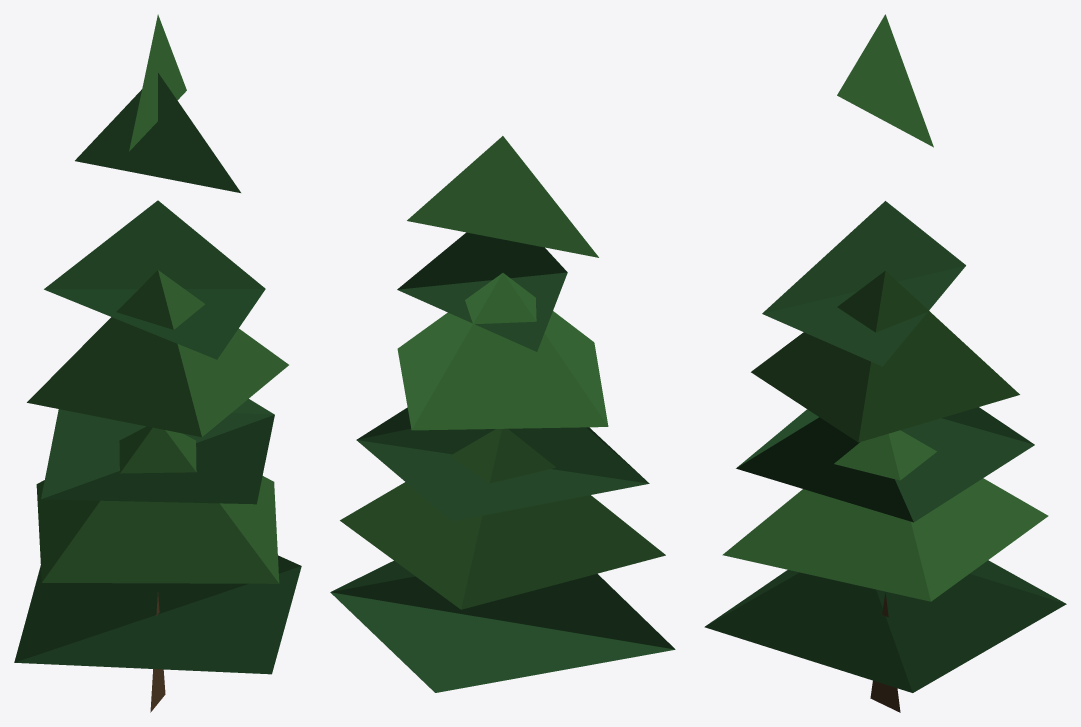
Rendered from tree_pine_4_lod2.glb.
3 renders of one model, left to right at view 1: azimuth 30°, elevation 25°; view 2: azimuth 150°, elevation 25°; view 3: azimuth 270°, elevation 25°, orthographic.
Parts seen in each view (by area): view 1: tree_pine_4_lod2; view 2: tree_pine_4_lod2; view 3: tree_pine_4_lod2.
Boxes of the visible parts, <box> form: tree_pine_4_lod2: <box>14,14,301,712</box>; tree_pine_4_lod2: <box>330,136,675,692</box>; tree_pine_4_lod2: <box>704,14,1066,712</box>.
Bounding box in the file's own units: 5.67 × 11.87 × 5.64.
